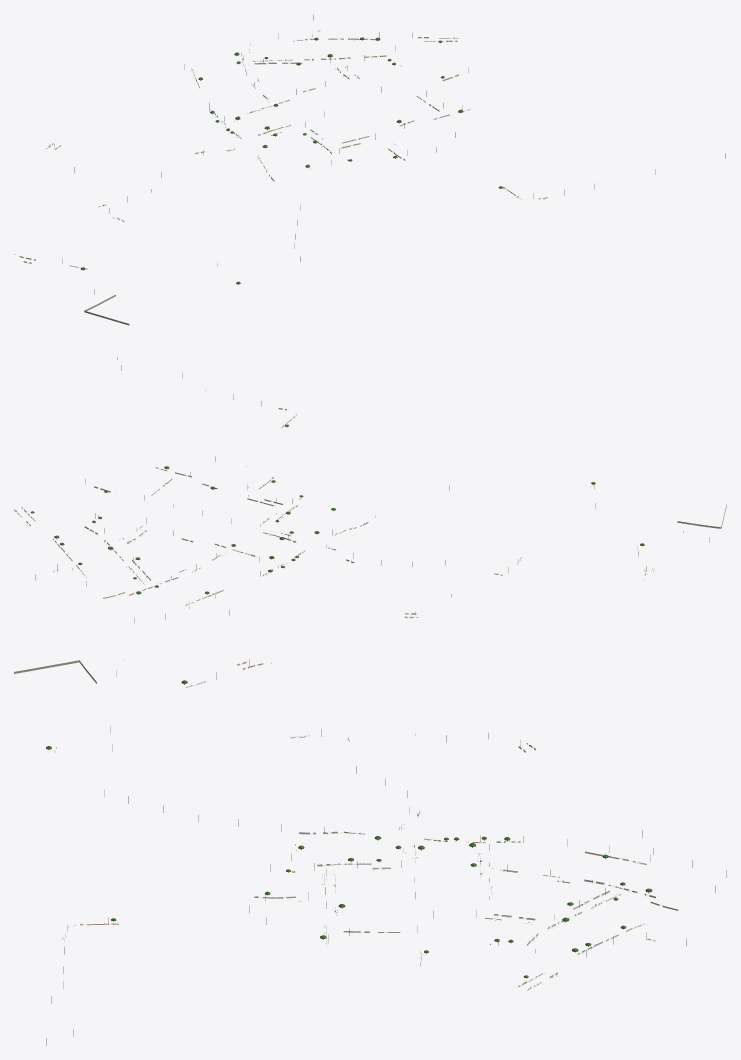
File: nd_stm_m7_m7.glb
3 renders of one model, top to bottom at view 1: azimuth 30°, elevation 25°; view 2: azimuth 150°, elevation 25°; view 3: azimuth 270°, elevation 25°, orthographic. The views are drawn at different scales.
Visible parts, largest first — view 1: nd_stm_m7_m7_lod0; view 2: nd_stm_m7_m7_lod0; view 3: nd_stm_m7_m7_lod0.
Boxes of the visible parts, bbox=[...] form: nd_stm_m7_m7_lod0: bbox=[14, 14, 725, 325]; nd_stm_m7_m7_lod0: bbox=[14, 357, 726, 623]; nd_stm_m7_m7_lod0: bbox=[14, 652, 726, 1045].
Size of what is drawn, in the model's own units: 913 by 32.47 by 689.
